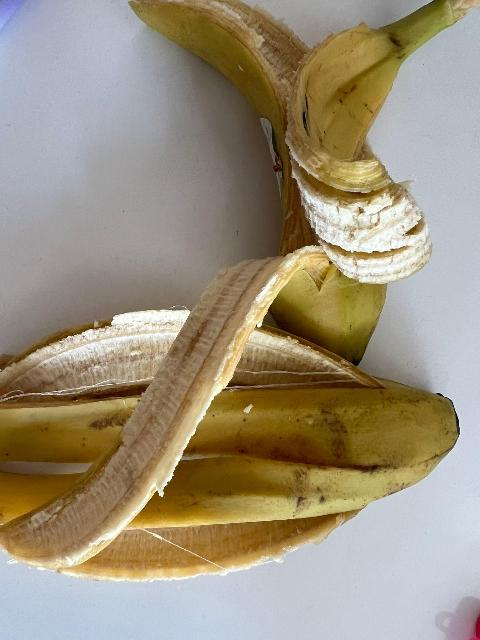Organik: (0, 325, 478, 577), (141, 0, 475, 330)
